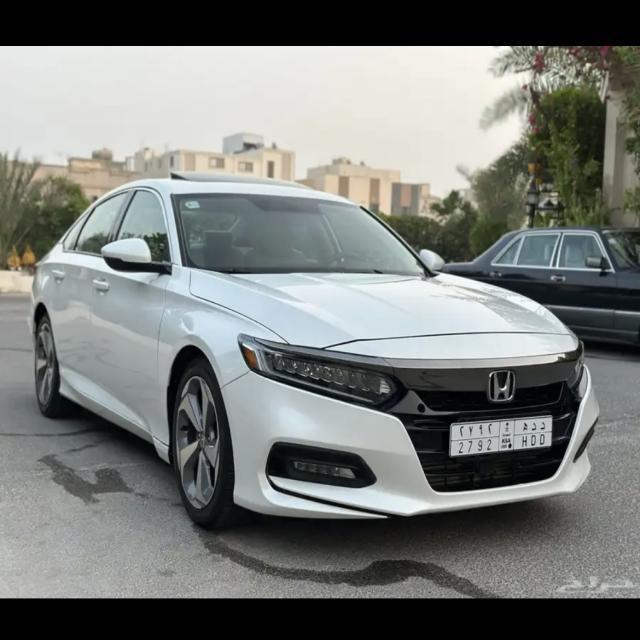license_plate: (450, 418, 553, 456)
